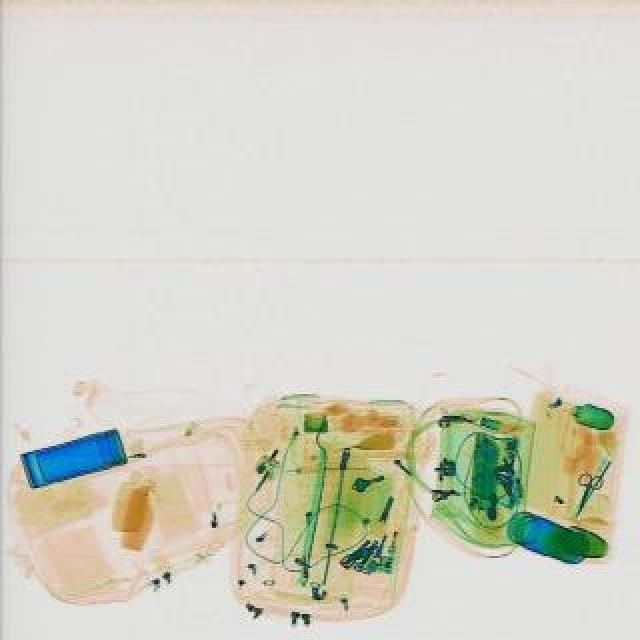pliers: (566, 472, 602, 520)
